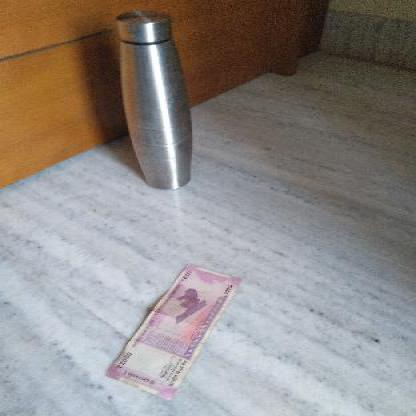New2000Back: (106, 266, 237, 401)
